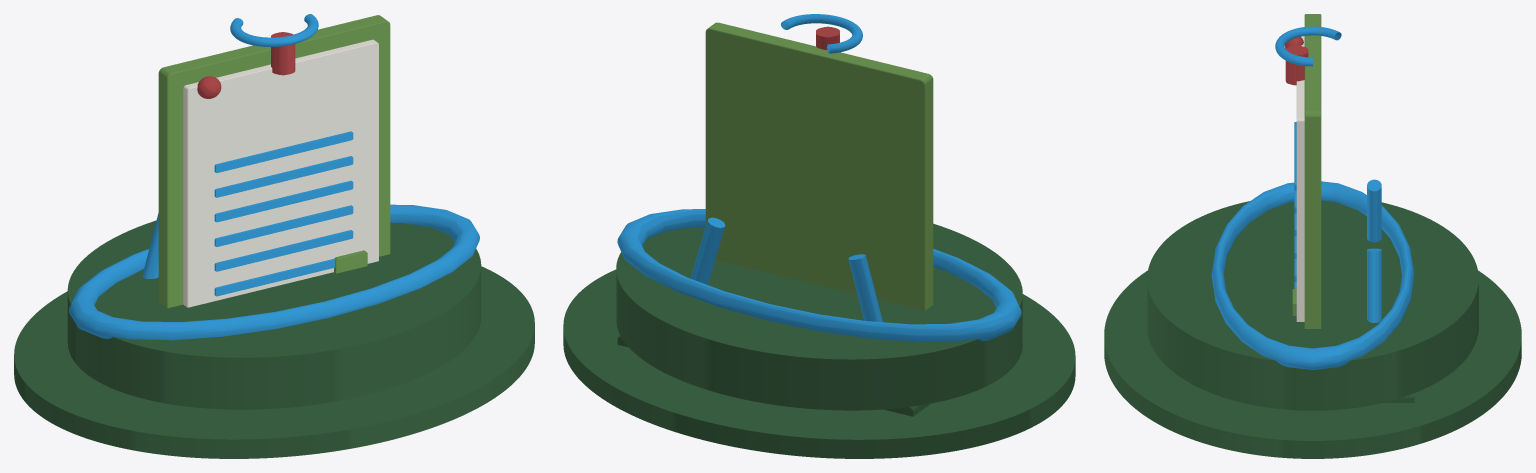
Rendered from 1317_中国古代寓言_《列子》.glb.
3 views of the same model, side by side, from view 1: azimuth 30°, elevation 25°; view 2: azimuth 150°, elevation 25°; view 3: azimuth 270°, elevation 25° (orthographic). The views are drawn at different scales.
Parts seen in each view (by area): view 1: card_1317; view 2: card_1317; view 3: card_1317.
Boxes of the visible parts, x1,y1,x2,y2 form: card_1317: [14, 14, 534, 458]; card_1317: [563, 14, 1075, 458]; card_1317: [1104, 14, 1521, 458].
Size of the model in its own units: 1.46 by 1 by 1.22.
